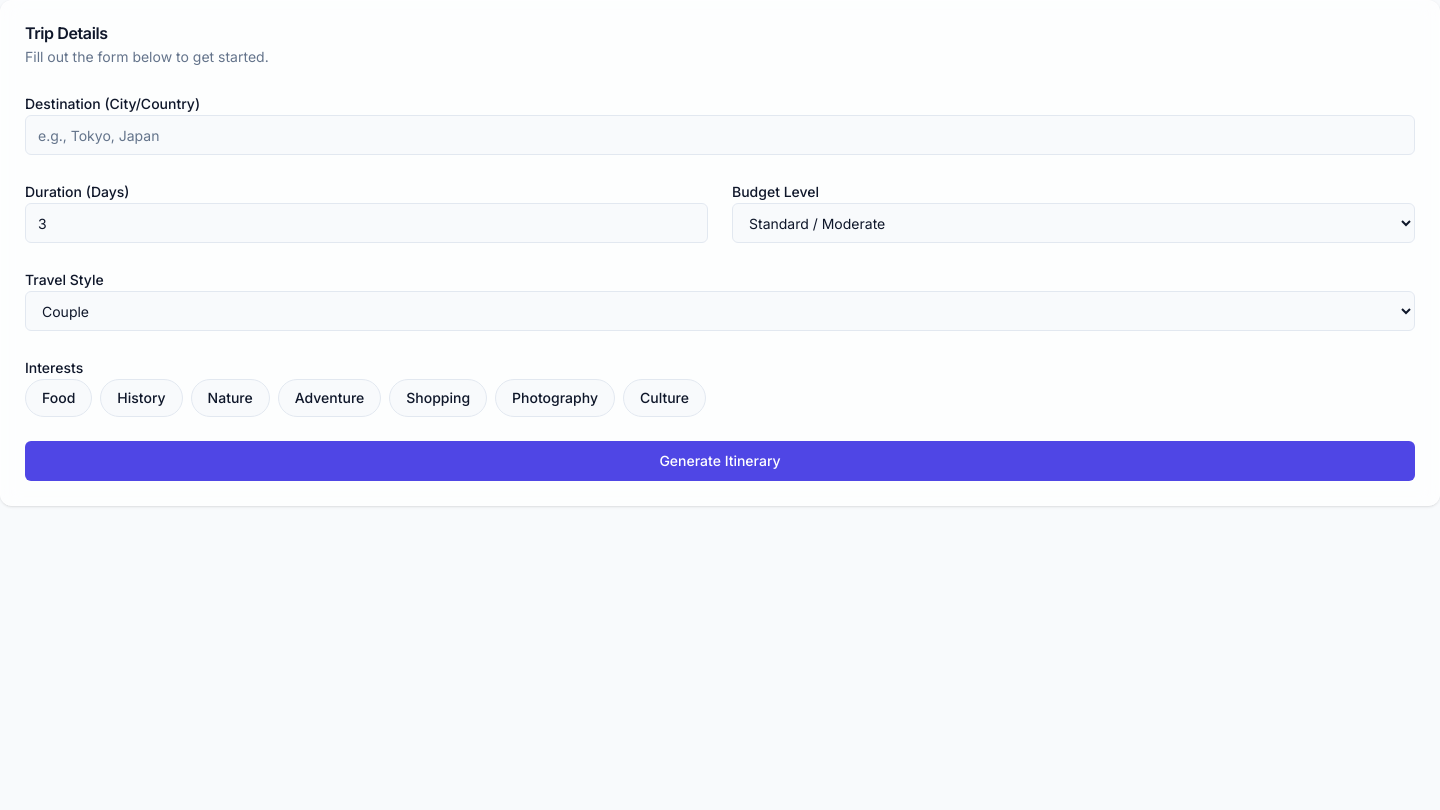
TravelForm › shows validation errors for empty destination
The image size is (1440, 810).
Just submit without filling required destination
Click the button "Generate Itinerary": (720, 461) [25,441,1415,481]
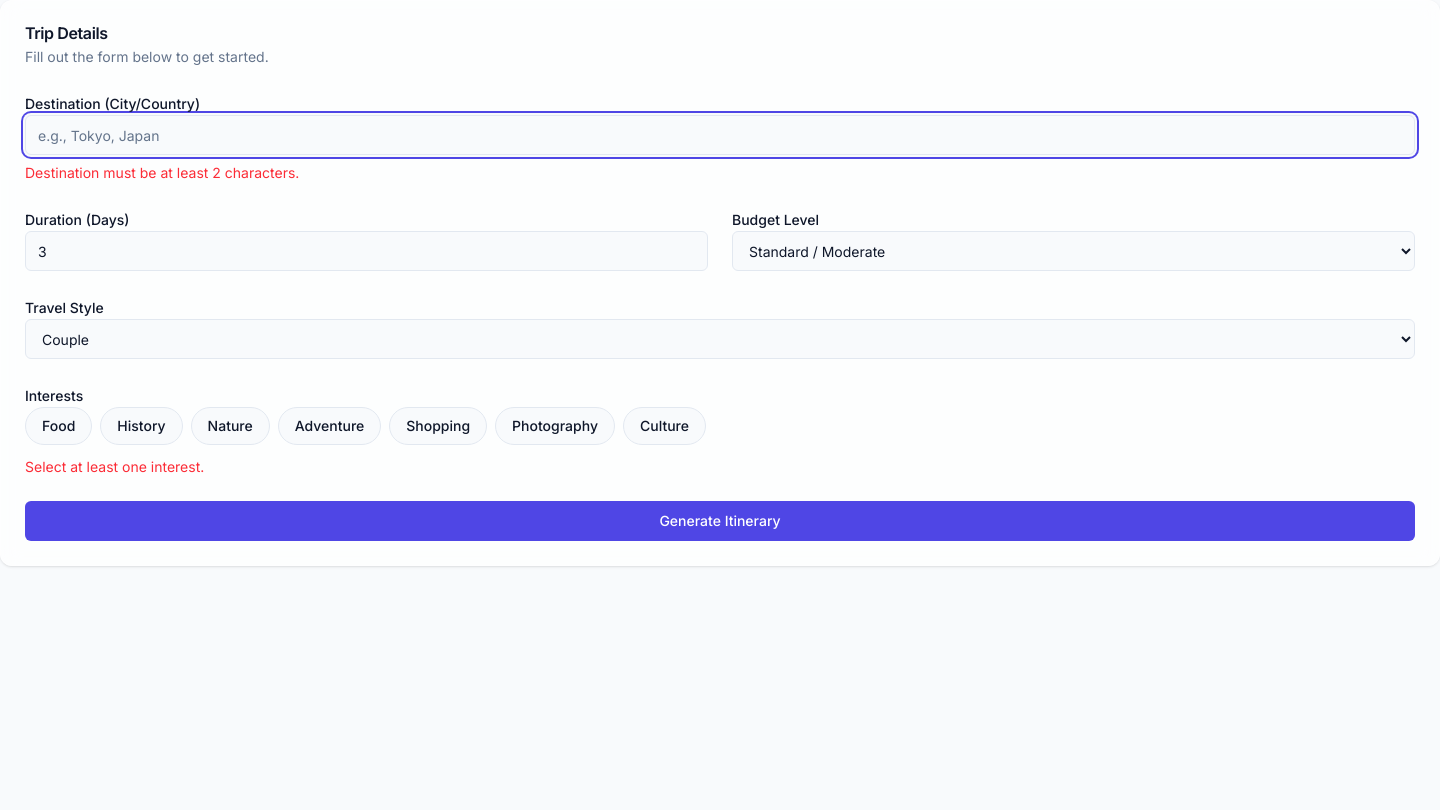
Now the text "Destination must be at least 2 characters." is shown, box [25,164,299,181]
Now the text "Select at least one interest." is shown, box [25,458,204,475]
